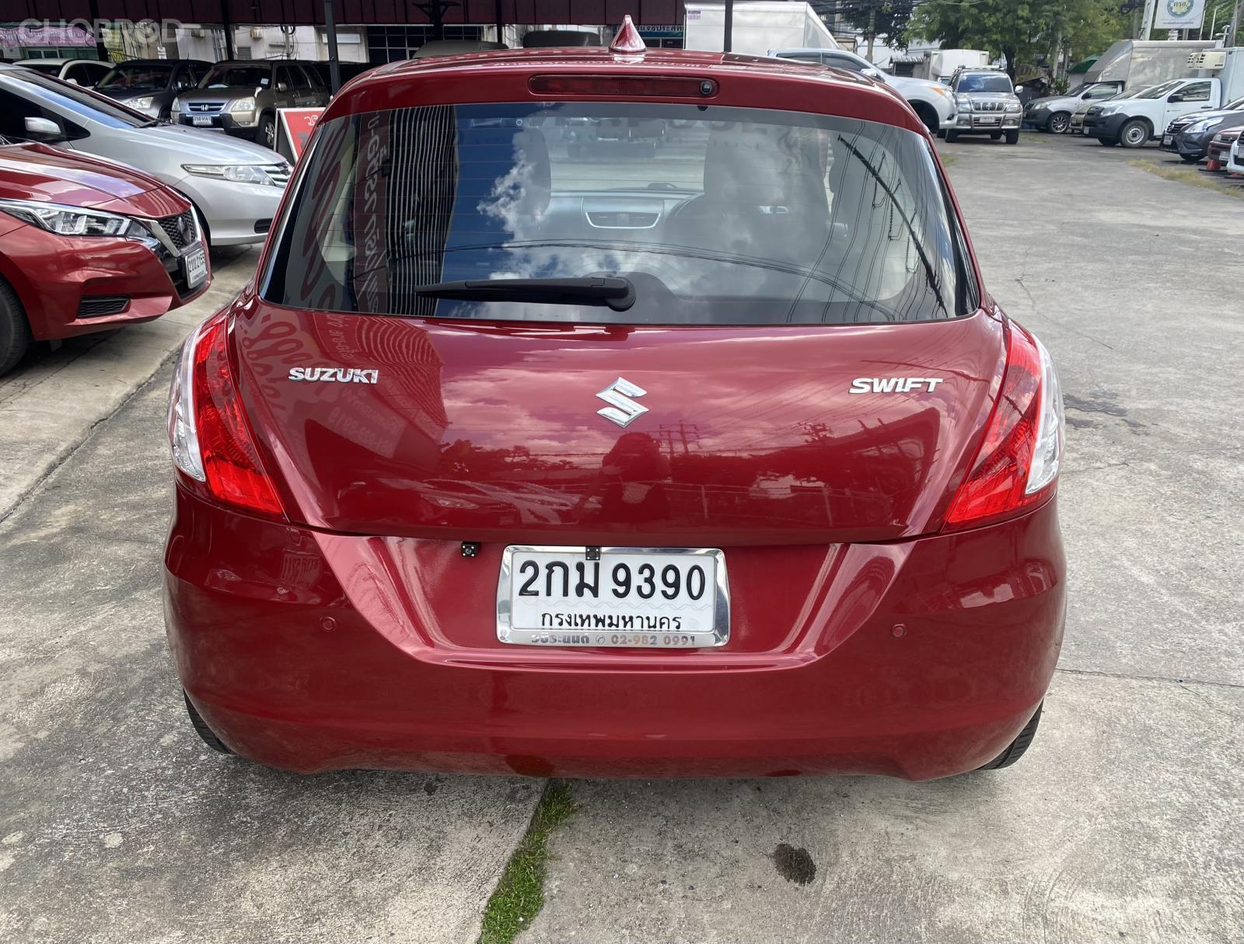license-plate: (497, 536, 736, 654)
